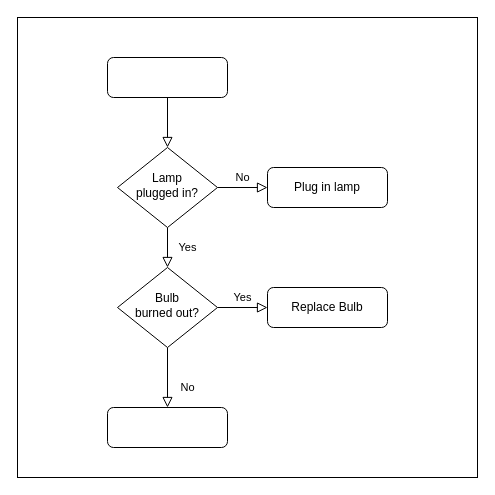
Some shapes in this 495 by 495 pixel diagram are drawn without their labels. The shapes that lost their labels are listed below. From the top down, each one's centre as x and y in pixels, then its label:
(167,77): Start Test
(167,427): Repair Lamp
